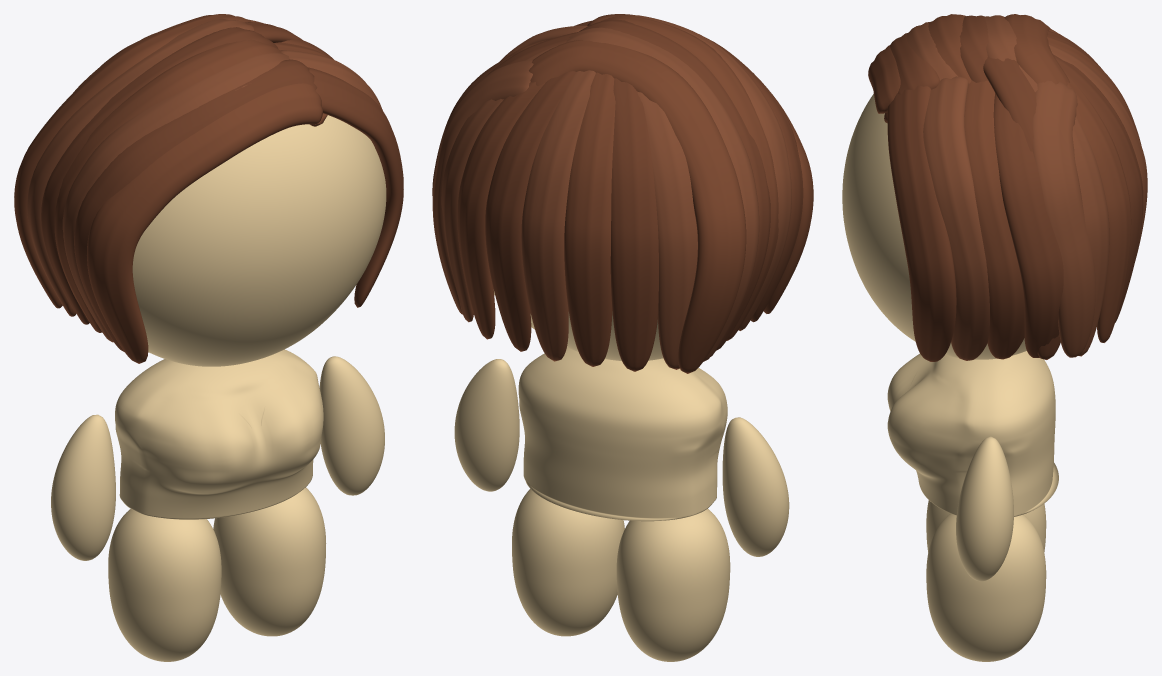
Rendered from Feminine-base.glb.
The picture shows the model from 3 angles, left to right: view 1: azimuth 30°, elevation 25°; view 2: azimuth 150°, elevation 25°; view 3: azimuth 270°, elevation 25°; orthographic projection.
Parts seen in each view (by area): view 1: Skin / soft oval head, Skin / rounded torso, Hair / Bob / side sweep 0, Skin / leg blob -1, Skin / leg blob 1, Hair / Bob / side sweep 1, Skin / swept arm -1, Skin / swept arm 1, Hair / Bob / side sweep 2, Hair / Bob / side sweep 3, Hair / Bob / side sweep 7, Hair / Bob / side sweep 6 (+4 smaller); view 2: Skin / rounded torso, Hair / Bob / side sweep 6, Skin / leg blob -1, Skin / leg blob 1, Hair / Bob / side sweep 19, Hair / Bob / side sweep 18, Hair / Bob / side sweep 17, Hair / Bob / side sweep 16, Hair / Bob / side sweep 20, Skin / swept arm -1, Hair / Bob / side sweep 15, Skin / swept arm 1 (+11 smaller); view 3: Skin / rounded torso, Skin / leg blob 1, Hair / Bob / side sweep 7, Skin / soft oval head, Hair / Bob / side sweep 8, Hair / Bob / side sweep 11, Hair / Bob / side sweep 10, Hair / Bob / side sweep 9, Skin / swept arm 1, Hair / Bob / side sweep 15, Hair / Bob / side sweep 14, Hair / Bob / side sweep 16 (+11 smaller).
Part boxes in pixels (x1,y1,x2,y2): Skin / soft oval head: (132,115,386,366); Skin / rounded torso: (115,349,323,519); Hair / Bob / side sweep 0: (87,83,327,363); Skin / leg blob -1: (108,509,221,661); Skin / leg blob 1: (213,487,326,636); Hair / Bob / side sweep 1: (74,59,317,351); Skin / swept arm -1: (51,414,115,560); Skin / swept arm 1: (319,356,384,495); Hair / Bob / side sweep 2: (62,52,289,342); Hair / Bob / side sweep 3: (54,39,281,332); Hair / Bob / side sweep 7: (308,67,403,307); Hair / Bob / side sweep 6: (14,14,250,308); Skin / rounded torso: (518,347,727,521); Hair / Bob / side sweep 6: (529,40,746,373); Skin / leg blob -1: (616,508,730,661); Skin / leg blob 1: (512,489,624,636); Hair / Bob / side sweep 19: (610,78,658,371); Hair / Bob / side sweep 18: (564,72,615,366); Hair / Bob / side sweep 17: (521,70,595,361); Hair / Bob / side sweep 16: (485,71,576,351); Hair / Bob / side sweep 20: (637,91,697,369); Skin / swept arm -1: (722,417,789,556); Hair / Bob / side sweep 15: (457,82,545,339); Skin / swept arm 1: (454,359,519,491); Skin / rounded torso: (887,351,1058,516); Skin / leg blob 1: (926,513,1046,661); Hair / Bob / side sweep 7: (887,85,956,361); Skin / soft oval head: (842,93,1026,359); Hair / Bob / side sweep 8: (923,76,989,360); Hair / Bob / side sweep 11: (1032,80,1095,357); Hair / Bob / side sweep 10: (993,93,1063,357); Hair / Bob / side sweep 9: (964,80,1024,359); Skin / swept arm 1: (956,436,1013,581); Hair / Bob / side sweep 15: (1067,76,1131,342); Hair / Bob / side sweep 14: (1019,65,1109,356); Hair / Bob / side sweep 16: (1053,54,1143,322).
Bounding box in the file's own units: 1.04 × 1.86 × 0.8526.
